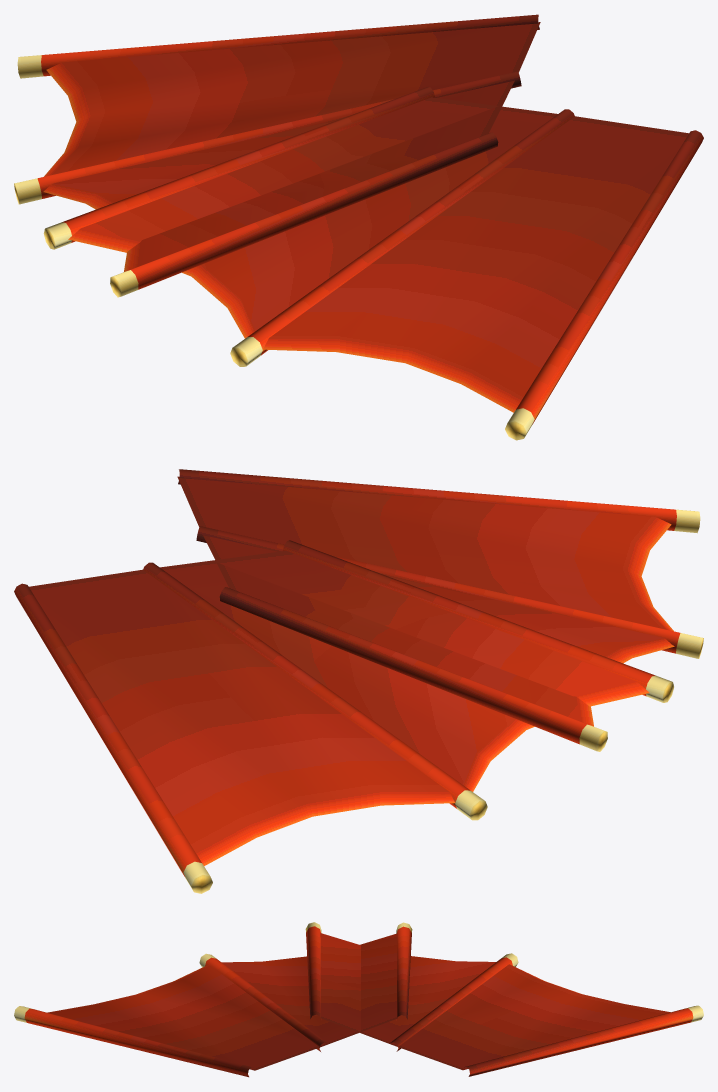
The model's file is HongKongBoard01_Power1.glb.
3 views of the same model, one above another, from view 1: azimuth 30°, elevation 25°; view 2: azimuth 150°, elevation 25°; view 3: azimuth 270°, elevation 25° (orthographic). The views are drawn at different scales.
Visible parts, largest first — view 1: L_wing, R_wing; view 2: R_wing, L_wing; view 3: R_wing, L_wing.
Part boxes in pixels (<box>): L_wing: <box>43,87,703,440</box>; R_wing: <box>14,14,540,297</box>; R_wing: <box>14,540,673,893</box>; L_wing: <box>177,469,703,751</box>; R_wing: <box>305,922,703,1076</box>; L_wing: <box>14,922,412,1077</box>.
Size of the model in its own units: 5.03 by 0.9151 by 8.11.
1 material, 1 textured.
